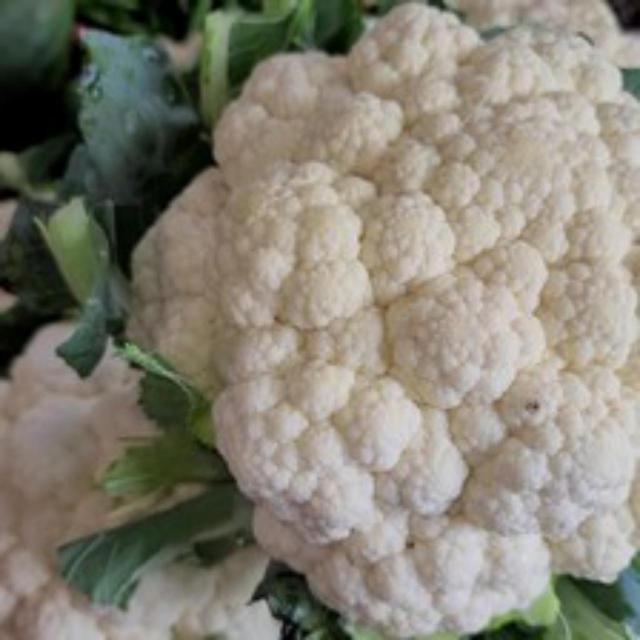cauliflower: (123, 3, 637, 637)
